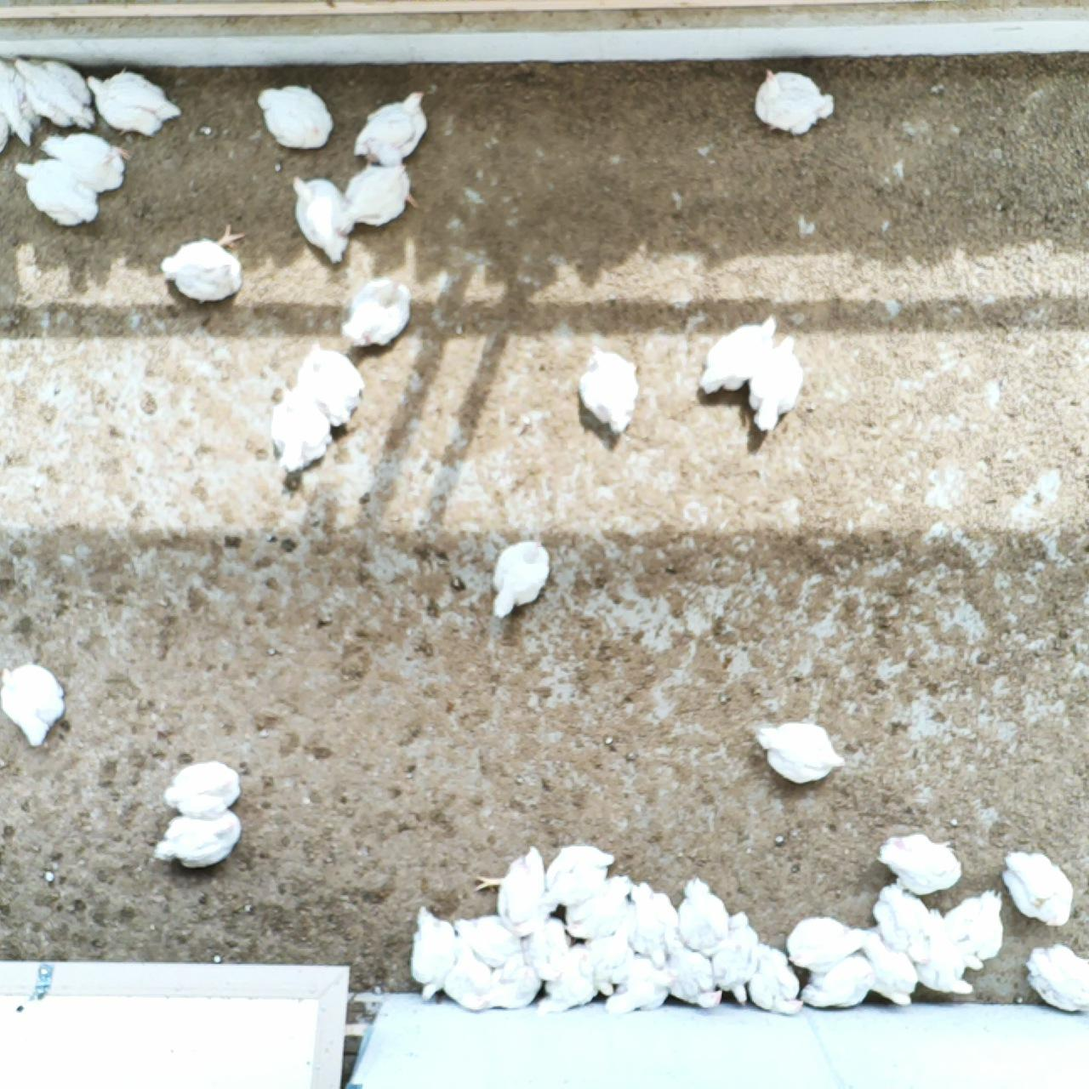chicken: (472, 842, 556, 938), (156, 221, 253, 303), (696, 312, 782, 400), (84, 67, 181, 138), (292, 338, 366, 429), (287, 171, 356, 267), (11, 54, 100, 128), (11, 156, 105, 225), (39, 127, 137, 193), (753, 63, 837, 138), (756, 719, 848, 787), (579, 341, 643, 437), (338, 161, 421, 235), (0, 660, 70, 747), (999, 847, 1076, 926), (350, 90, 430, 166), (744, 334, 806, 432), (877, 829, 966, 897), (338, 275, 415, 352), (151, 807, 241, 871), (270, 387, 334, 476), (162, 755, 247, 822), (490, 536, 553, 622), (626, 877, 686, 967), (256, 83, 336, 150), (921, 908, 978, 1002), (564, 871, 634, 943), (1023, 939, 1089, 1015), (786, 912, 873, 969), (714, 909, 763, 1010), (873, 881, 934, 962), (798, 948, 875, 1012), (674, 871, 730, 958), (945, 885, 1009, 959), (543, 843, 617, 906), (410, 903, 458, 1000), (749, 937, 807, 1017), (604, 959, 679, 1019), (535, 944, 594, 1019), (925, 906, 985, 972), (0, 53, 41, 149), (442, 937, 493, 1013), (451, 912, 525, 964), (518, 915, 573, 982), (669, 948, 724, 1013), (578, 934, 631, 997), (476, 959, 539, 1012)
